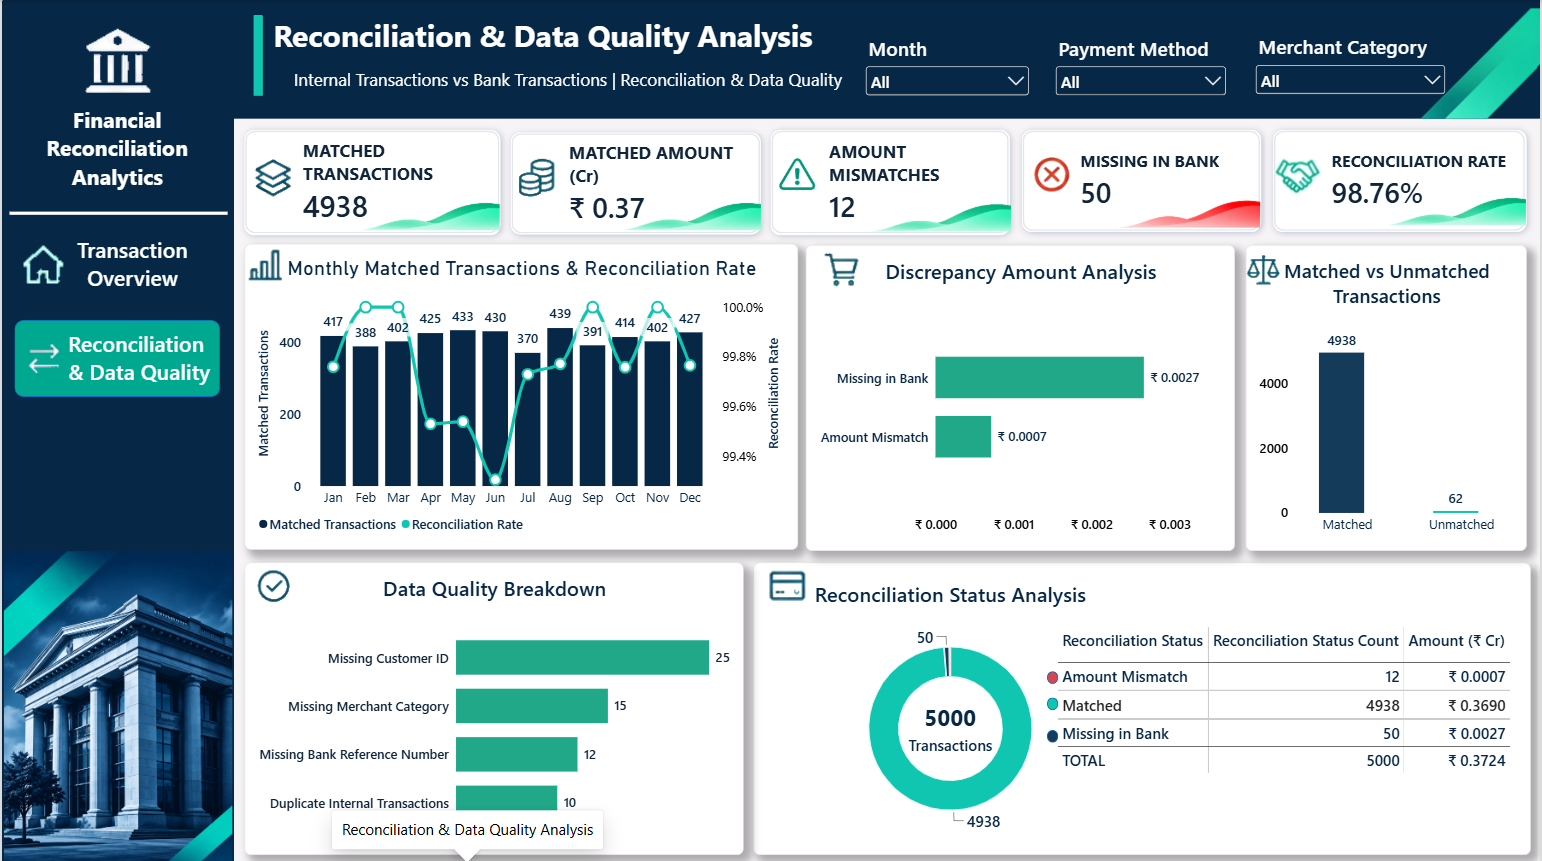

The page's visual inventory and layout, read from the dashboard file:
{"tool":"powerbi","page":{"name":"Reconciliation & Data Quality Analysis","canvas":[1920,1080],"ordinal":1},"visuals":[{"type":"shape","box":[0,0,1920.4,148.3],"z":0},{"type":"shape","box":[0,0,289.5,1079.7],"z":1000},{"type":"image","box":[64.5,22.7,160.5,104.7],"z":2000},{"type":"textbox","box":[15.7,130.8,256.4,158.7],"z":3000},{"type":"shape","box":[15.7,399.4,256.4,95.9],"z":4000},{"type":"shape","box":[8.7,162.2,272.1,207.6],"z":5000},{"type":"image","box":[0,289.5,102.9,80.2],"z":6000},{"type":"textbox","box":[52.3,293,219.8,76.7],"z":7000},{"type":"image","box":[17.4,416.9,69.8,62.8],"z":8000},{"type":"textbox","box":[82,409.9,190.1,76.7],"z":9000},{"type":"image","box":[0,687.2,289.5,392.4],"z":10000},{"type":"shape","box":[314,19.2,12.2,101.2],"z":11000},{"type":"textbox","box":[338.4,19.2,1466.9,111.6],"z":12000},{"type":"textbox","box":[320.9,83.7,769.2,64.5],"z":13000},{"type":"cardVisual","fields":{"Data":["bank_transactions_clean.MATCHED_TRANSACTIONS"]},"box":[301.7,162.2,319.2,130.8],"z":14000},{"type":"cardVisual","fields":{"Data":["bank_transactions_clean.MATCHED_AMOUNT (Cr)"]},"box":[634.9,165.7,312.2,127.3],"z":15000},{"type":"cardVisual","fields":{"Data":["bank_transactions_clean.Reconciliation_Rate"]},"box":[1585.5,162.2,315.7,127.3],"z":16000},{"type":"cardVisual","fields":{"Data":["bank_transactions_clean.MISSING_IN_BANK"]},"box":[1271.5,162.2,298.3,127.3],"z":17000},{"type":"cardVisual","fields":{"Data":["bank_transactions_clean.AMOUNT_MISMATCHES"]},"box":[959.3,162.2,298.3,130.8],"z":18000},{"type":"image","box":[959.3,181.4,66.3,71.5],"z":19000},{"type":"image","box":[429.1,216.3,191.9,76.7],"z":20000},{"type":"image","box":[755.2,216.3,191.9,76.7],"z":21000},{"type":"image","box":[1065.7,218,191.9,76.7],"z":22000},{"type":"image","box":[1386.6,218,183.1,69.8],"z":23000},{"type":"image","box":[1709.3,211,191.9,76.7],"z":24000},{"type":"image","box":[268.6,188.4,139.5,66.3],"z":25000},{"type":"image","box":[603.5,188.4,127.3,66.3],"z":26000},{"type":"image","box":[1257.6,186.6,102.9,61],"z":27000},{"type":"image","box":[1569.8,184.9,92.4,66.3],"z":28000},{"type":"lineClusteredColumnComboChart","title":"Monthly Matched Transactions & Reconciliation Rate","fields":{"Category":["Calendar.Month"],"Y":["bank_transactions_clean.MONTHLY_MATCHED_TRANSACTIONS"],"Y2":["bank_transactions_clean.Reconciliation_Rate"]},"box":[301.7,303.5,690.7,382],"z":29000},{"type":"shape","box":[936.6,701.2,969.8,364.5],"z":30000},{"type":"donutChart","title":"Reconciliation Status Analysis","fields":{"Category":["Reconciliation_Status.Reconciliation Status"],"Y":["bank_transactions_clean.RReconciliation Status Count"]},"box":[945.4,723.8,476.2,320.9],"z":31000},{"type":"tableEx","fields":{"Values":["Reconciliation_Status.Reconciliation Status","bank_transactions_clean.RReconciliation Status Count","bank_transactions_clean.Reconciliation Amount (Cr)"]},"box":[1299.4,767.4,601.7,277.3],"z":32000},{"type":"shape","box":[1302.9,870.4,14,15.7],"z":33000},{"type":"shape","box":[1302.9,910.5,14,15.7],"z":34000},{"type":"shape","box":[1302.9,837.2,14,15.7],"z":35000},{"type":"clusteredBarChart","title":"Data Quality Breakdown","fields":{"Category":["Data_Quality_Summary.Data Quality Issue"],"Y":["Sum(Data_Quality_Summary.Records)"]},"box":[301.7,701.2,622.7,364.5],"z":36000},{"type":"clusteredBarChart","title":"Discrepancy Amount Analysis","fields":{"Category":["Reconciliation_Status.Reconciliation Status"],"Y":["bank_transactions_clean.Reconciliation Amount (Cr)"]},"box":[1002.9,305.2,535.5,382],"z":37000},{"type":"clusteredColumnChart","title":"Matched vs Unmatched Transactions","fields":{"Category":["Match_Status.Match Status"],"Y":["bank_transactions_clean.Match Status Count"]},"box":[1550.6,305.2,350.6,382],"z":38000},{"type":"slicer","fields":{"Values":["internal_transactions_clean.MONTH_SHORT"]},"box":[1072.7,43.6,212.8,76.7],"z":39000},{"type":"slicer","fields":{"Values":["internal_transactions_clean.Payment_Method"]},"box":[1309.9,43.6,221.5,75],"z":40000},{"type":"slicer","fields":{"Values":["internal_transactions_clean.Merchant_Category"]},"box":[1559.3,41.9,245.9,76.7],"z":41000},{"type":"image","box":[1644.4,0,275.6,158.7],"z":42000},{"type":"image","box":[289.5,300,76.7,62.8],"z":43000},{"type":"image","box":[992.4,303.5,108.1,64.5],"z":44000},{"type":"image","box":[1538.4,308.7,68,55.8],"z":45000},{"type":"image","box":[275.6,701.2,125.6,59.3],"z":46000},{"type":"image","box":[945.4,690.7,69.8,80.2],"z":47000}]}

Visuals, with their boxes in screenshot pixels (x1, y1, x2, y2), scaled from the page's 1920x1080 canvas onto the 1542x861 screenshot:
shape: 0,0,1541,118
shape: 0,0,233,860
image: 52,18,181,102
textbox: 13,104,219,231
shape: 13,318,219,395
shape: 7,129,226,295
image: 0,231,83,295
textbox: 42,234,219,295
image: 14,332,70,382
textbox: 66,327,219,388
image: 0,548,233,860
shape: 252,15,262,96
textbox: 272,15,1450,104
textbox: 258,67,875,118
cardVisual - bank_transactions_clean.MATCHED_TRANSACTIONS: 242,129,499,234
cardVisual - bank_transactions_clean.MATCHED_AMOUNT (Cr): 510,132,761,234
cardVisual - bank_transactions_clean.Reconciliation_Rate: 1273,129,1527,231
cardVisual - bank_transactions_clean.MISSING_IN_BANK: 1021,129,1261,231
cardVisual - bank_transactions_clean.AMOUNT_MISMATCHES: 770,129,1010,234
image: 770,145,824,202
image: 345,172,499,234
image: 607,172,761,234
image: 856,174,1010,235
image: 1114,174,1261,229
image: 1373,168,1527,229
image: 216,150,328,203
image: 485,150,587,203
image: 1010,149,1093,197
image: 1261,147,1335,200
"Monthly Matched Transactions & Reconciliation Rate" lineClusteredColumnComboChart: 242,242,797,546
shape: 752,559,1531,850
"Reconciliation Status Analysis" donutChart: 759,577,1142,833
tableEx - Reconciliation_Status.Reconciliation Status x bank_transactions_clean.RReconciliation Status Count: 1044,612,1527,833
shape: 1046,694,1058,706
shape: 1046,726,1058,738
shape: 1046,667,1058,680
"Data Quality Breakdown" clusteredBarChart: 242,559,742,850
"Discrepancy Amount Analysis" clusteredBarChart: 805,243,1236,548
"Matched vs Unmatched Transactions" clusteredColumnChart: 1245,243,1527,548
slicer - internal_transactions_clean.MONTH_SHORT: 862,35,1032,96
slicer - internal_transactions_clean.Payment_Method: 1052,35,1230,95
slicer - internal_transactions_clean.Merchant_Category: 1252,33,1450,95
image: 1321,0,1541,127
image: 233,239,294,289
image: 797,242,884,293
image: 1236,246,1290,291
image: 221,559,322,606
image: 759,551,815,615
